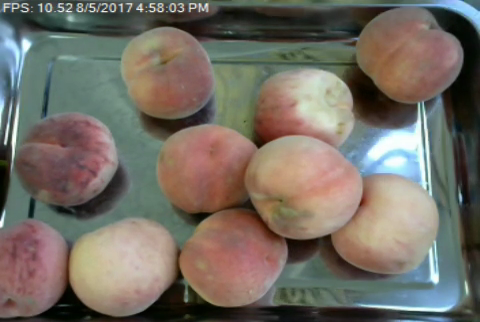Peach: (246, 136, 360, 239), (331, 174, 437, 274), (180, 209, 287, 307), (354, 7, 463, 103), (69, 219, 176, 315), (15, 112, 118, 205), (151, 122, 253, 214), (252, 65, 357, 154), (120, 26, 215, 120), (0, 220, 69, 317)
